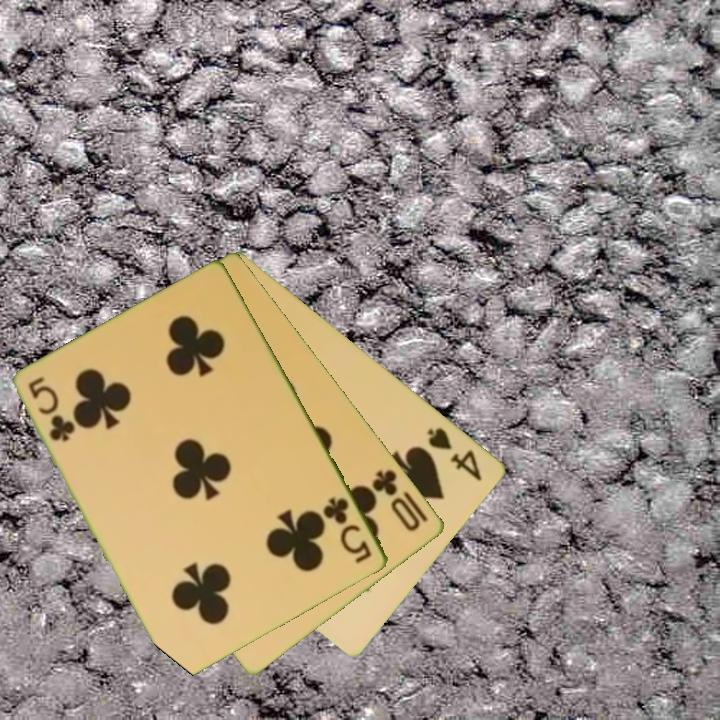10c: (368, 466, 424, 535)
4s: (424, 423, 486, 485)
5c: (320, 493, 375, 567), (25, 373, 77, 445)
